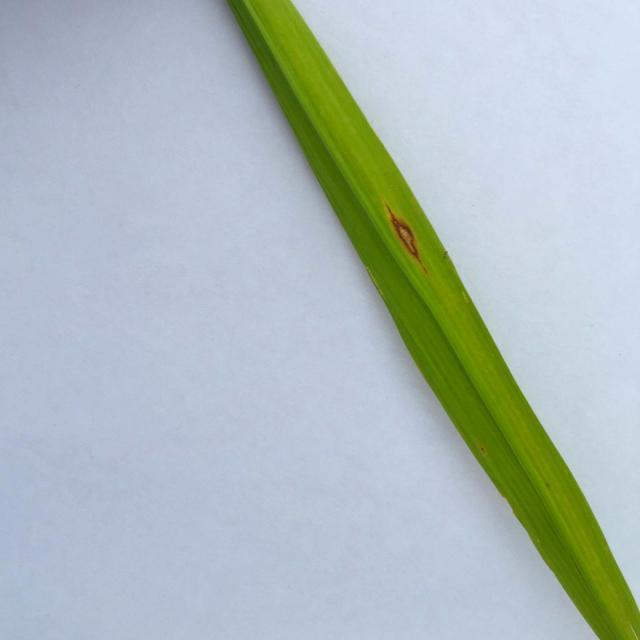Leaf_Blast: (363, 170, 460, 312)
